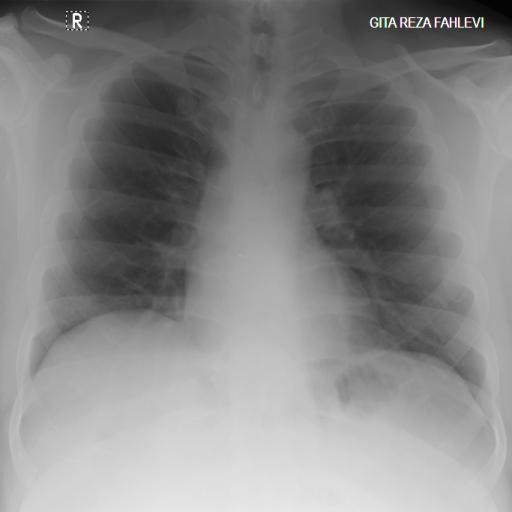normal: (17, 0, 503, 431)
